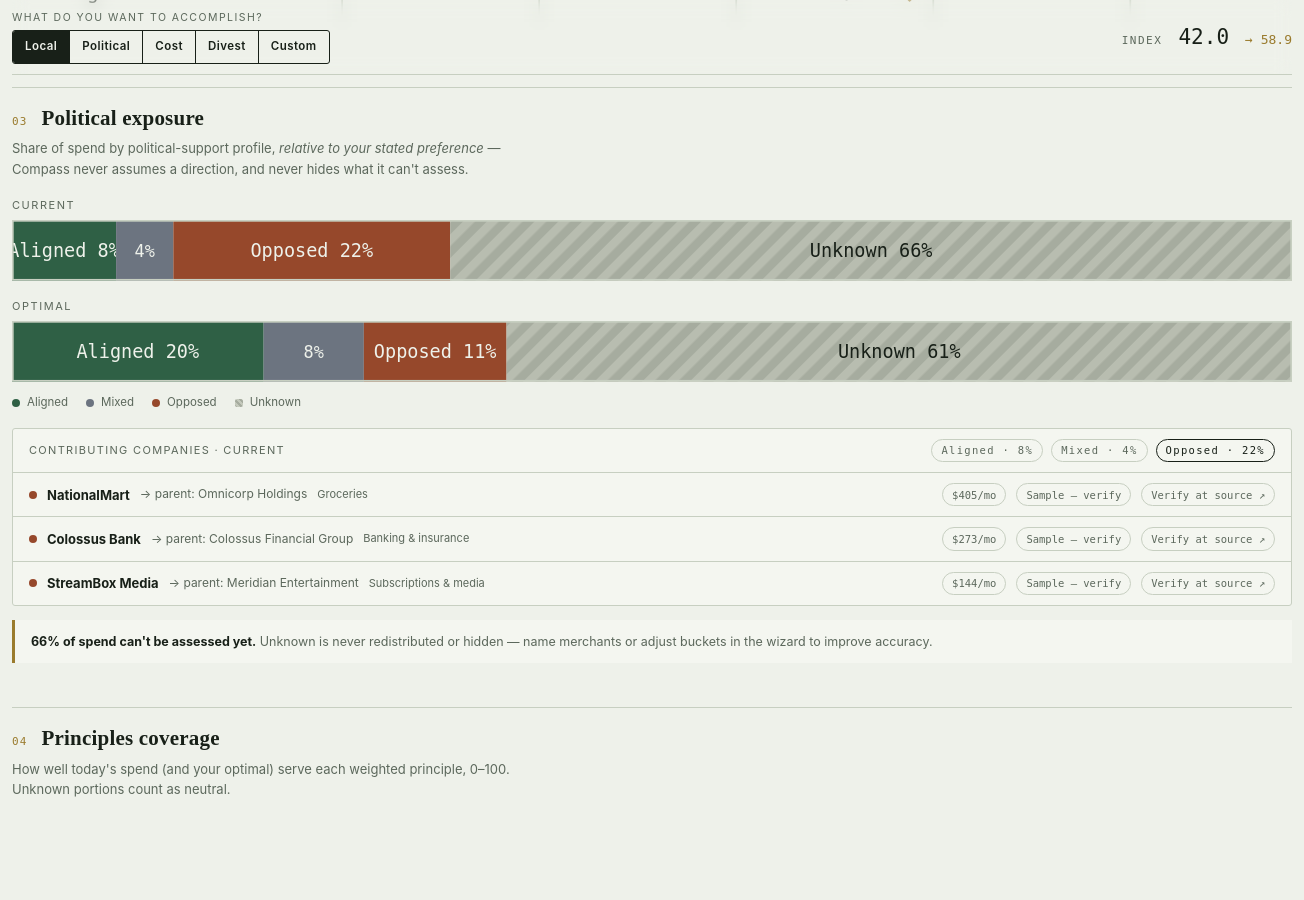
Test: Dashboard › Jordan: dial, sankey, slope, political drill-down, radar, pareto all render; goal toggle re-scores live
(page scrolled)
Expected: the picture named "Current political exposure" is shown, [12,220,1292,280]
Expected: the picture named "Optimal political exposure" is shown, [12,321,1292,382]
Step 1. Click the button "Aligned · 8%" → x=987, y=450, box [931,439,1043,462]
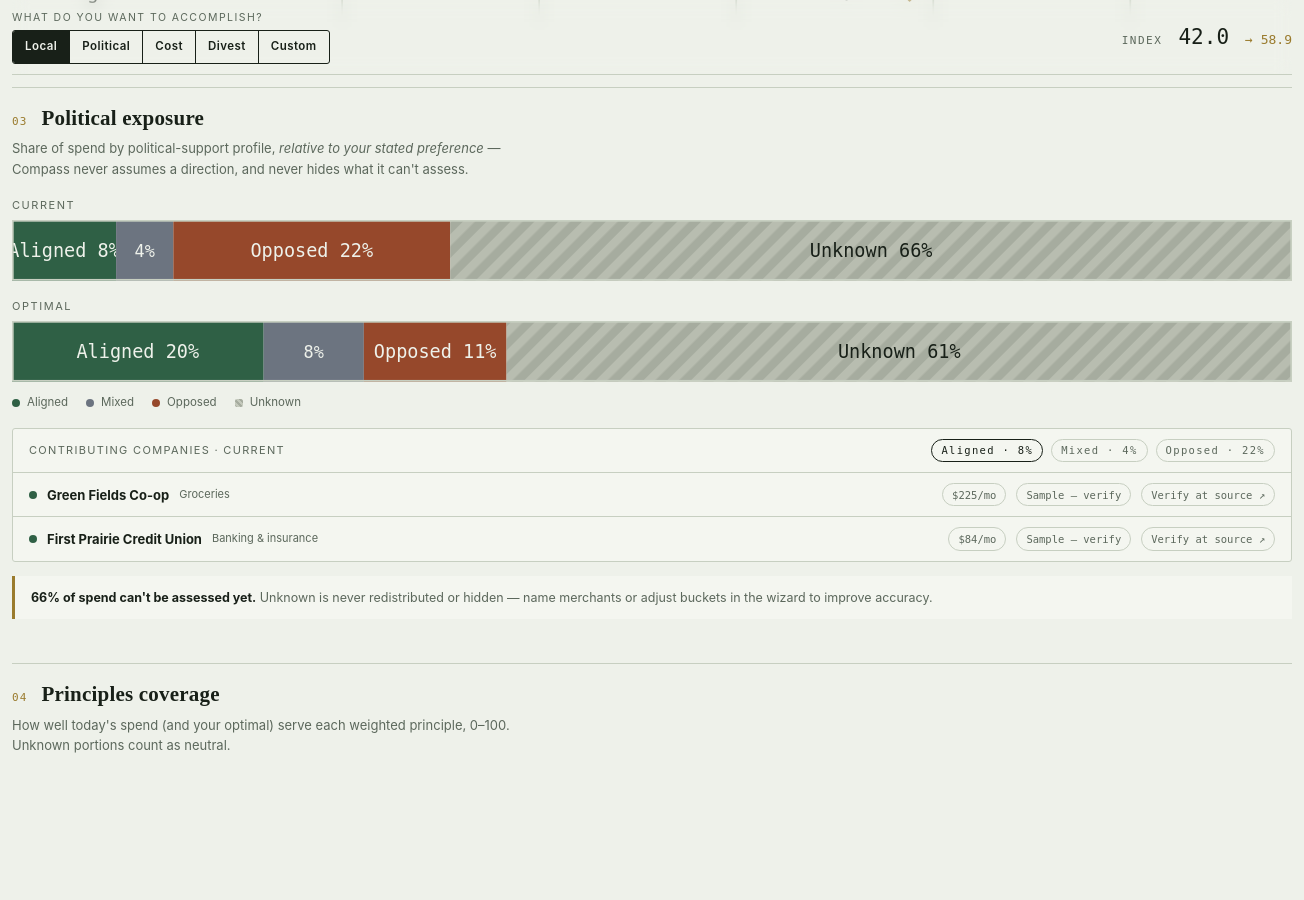
Now the text "Green Fields Co-op" is shown, box [47,485,169,505]
Step 2. Click the radio button labelled "Political" → x=107, y=47, box [70,31,143,63]
(page scrolled)
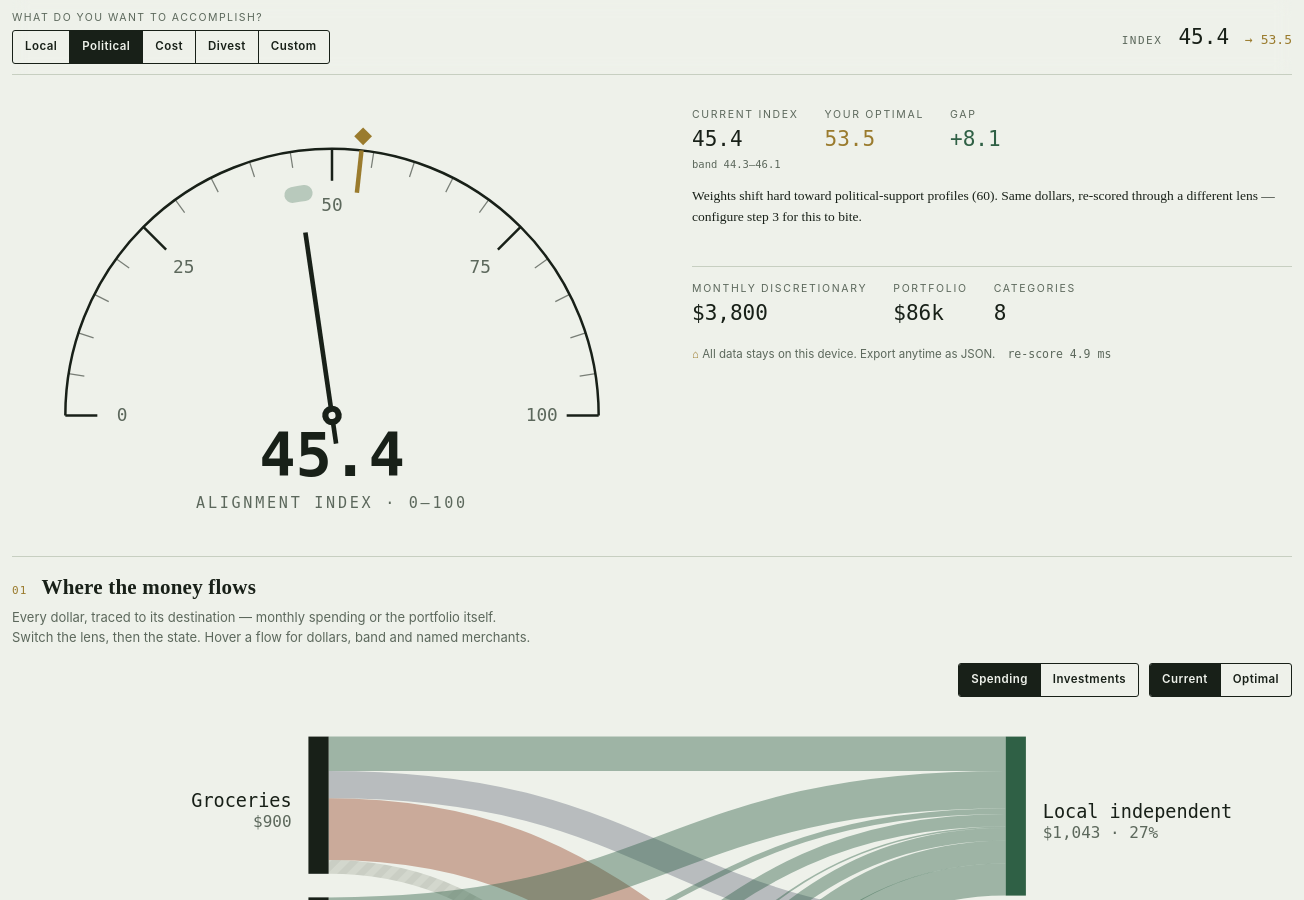
Now the picture named "Alignment index dial: 45.4" is shown, box [12,99,652,512]
